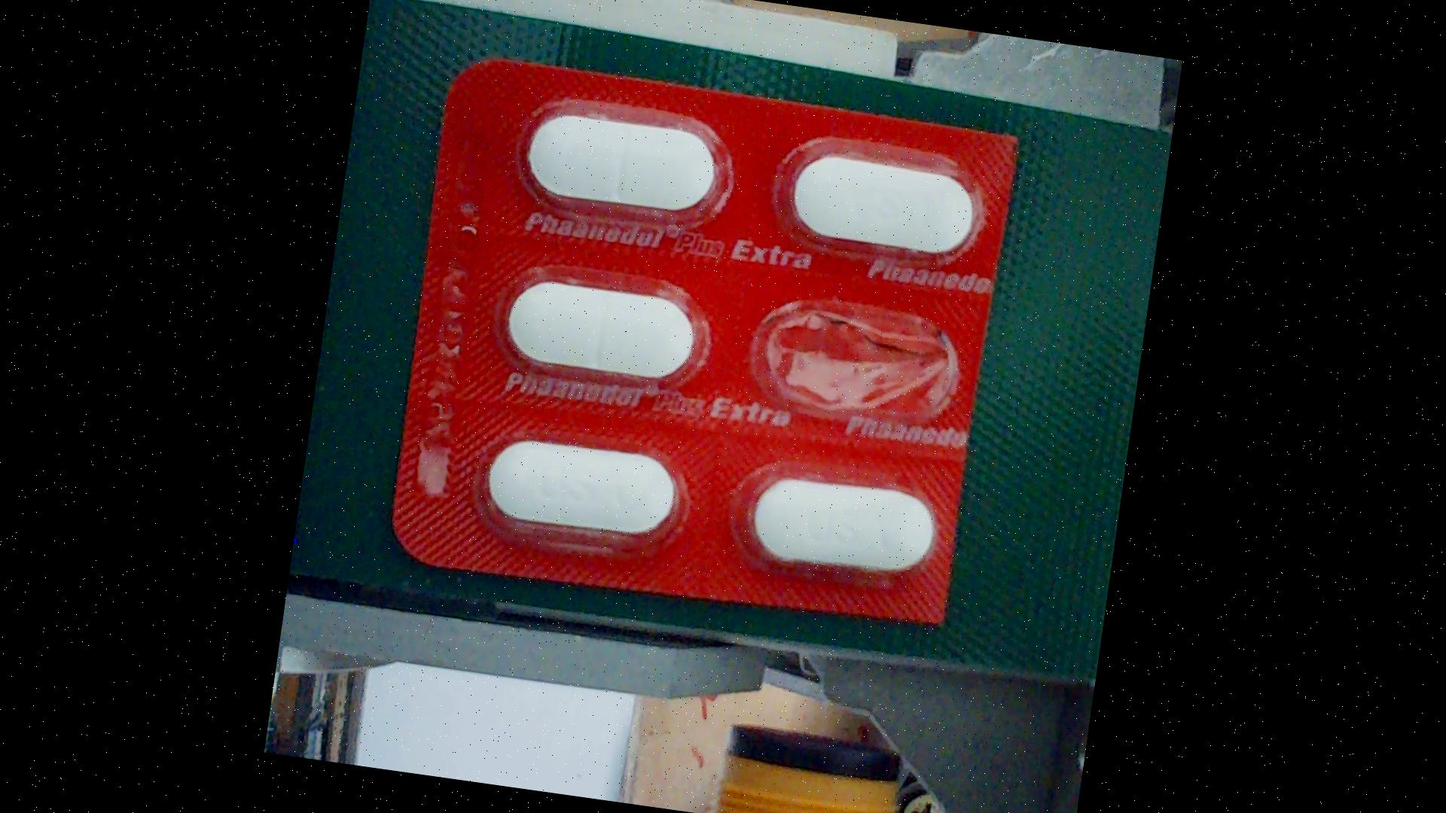Empty: (737, 281, 967, 424)
Full: (764, 124, 998, 273), (510, 90, 740, 233), (486, 253, 716, 396), (470, 410, 700, 553), (722, 450, 952, 593)
